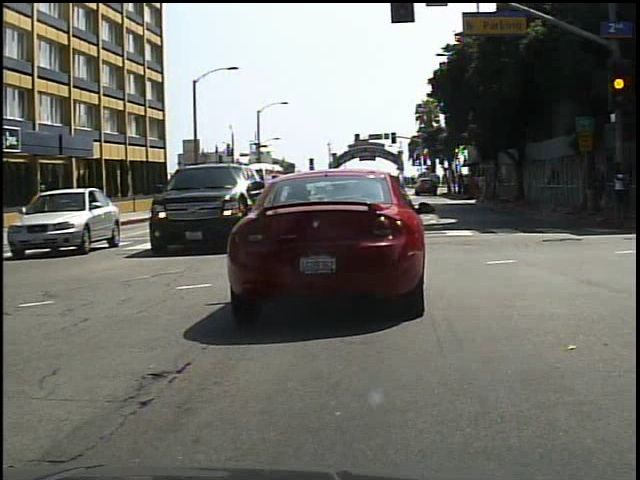person: (37, 183, 59, 234)
